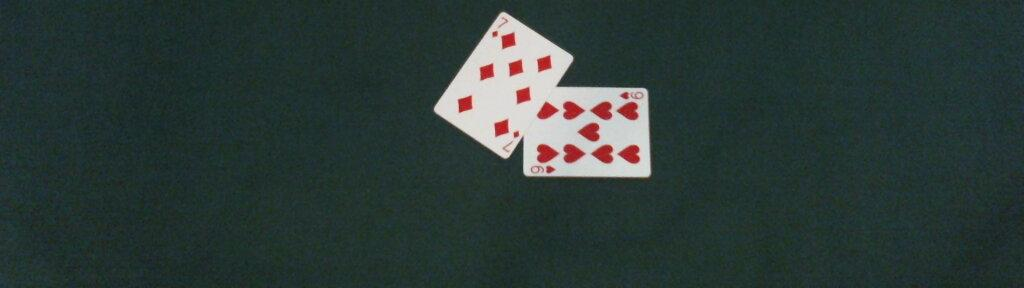nine: (522, 87, 649, 177)
seven: (434, 10, 574, 159)
